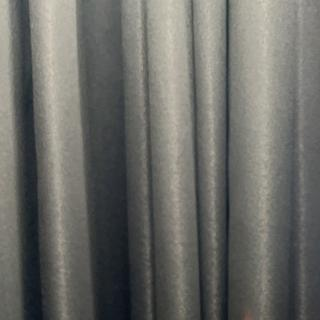fire: (239, 310, 265, 320)
